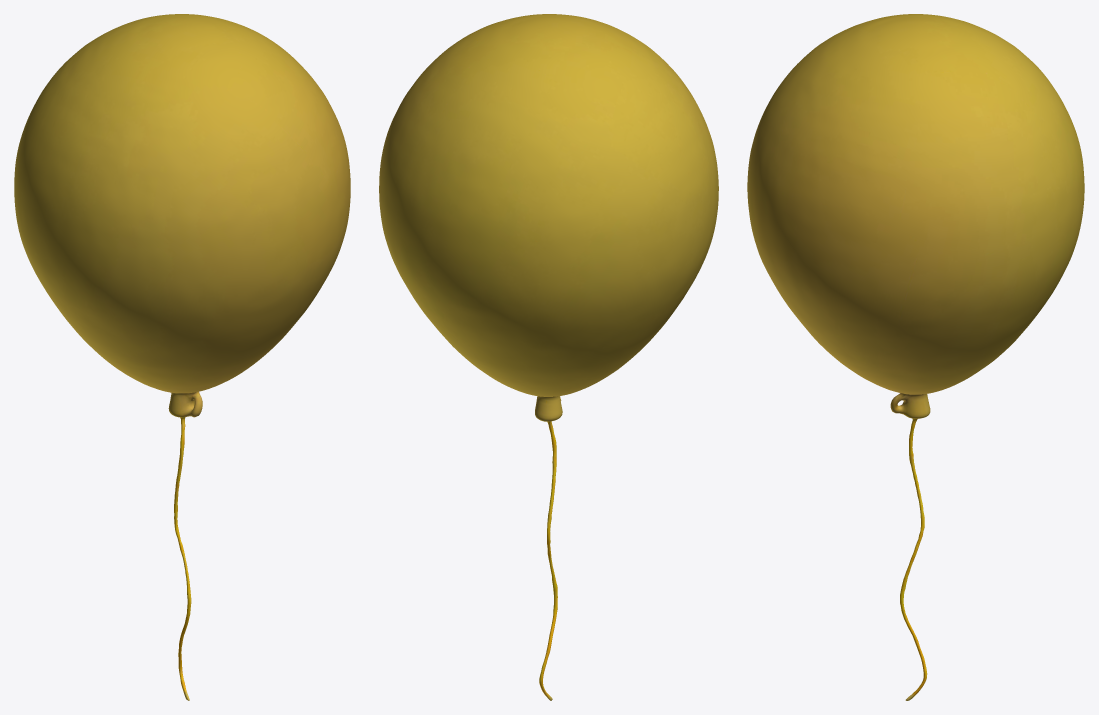
File: balloon.fbx
3 views of the same model, side by side, from view 1: azimuth 30°, elevation 25°; view 2: azimuth 150°, elevation 25°; view 3: azimuth 270°, elevation 25° (orthographic).
Parts seen in each view (by area): view 1: tripo_node_1ab625c6-f5a1-4eaa-a589-962499dc660e; view 2: tripo_node_1ab625c6-f5a1-4eaa-a589-962499dc660e; view 3: tripo_node_1ab625c6-f5a1-4eaa-a589-962499dc660e.
Part boxes in pixels (x1,y1,x2,y2): tripo_node_1ab625c6-f5a1-4eaa-a589-962499dc660e: (14, 14, 350, 700); tripo_node_1ab625c6-f5a1-4eaa-a589-962499dc660e: (379, 14, 718, 700); tripo_node_1ab625c6-f5a1-4eaa-a589-962499dc660e: (747, 14, 1084, 700).
Size of the model in its own units: 43.01 by 94.5 by 43.05.
1 material, 1 textured.
